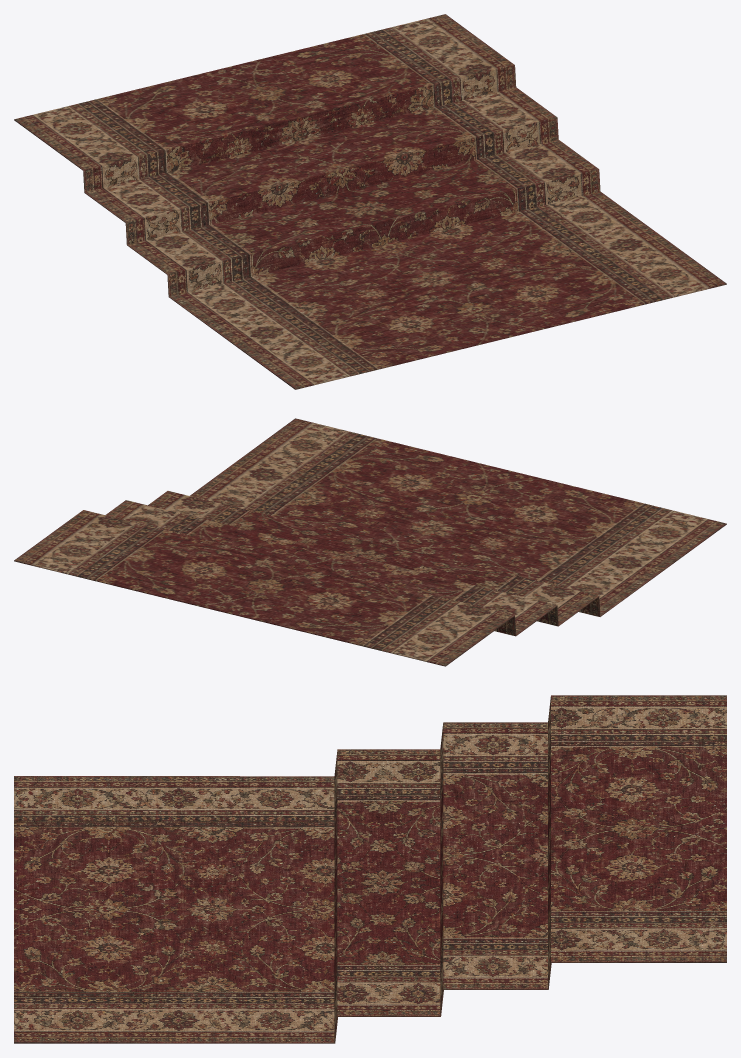
Rendered from chancel_carpet.glb.
3 renders of one model, top to bottom at view 1: azimuth 30°, elevation 25°; view 2: azimuth 150°, elevation 25°; view 3: azimuth 270°, elevation 25°, orthographic. The views are drawn at different scales.
Visible parts, largest first — view 1: BurgundyWoolSurface; view 2: BurgundyWoolSurface; view 3: BurgundyWoolSurface.
Part boxes in pixels (left/top/right/bottom): BurgundyWoolSurface: left=14, top=14, right=726, bottom=389; BurgundyWoolSurface: left=14, top=418, right=726, bottom=666; BurgundyWoolSurface: left=14, top=695, right=726, bottom=1043.
Size of the model in its own units: 1.7 by 0.243 by 1.92.
1 material, 1 textured.
